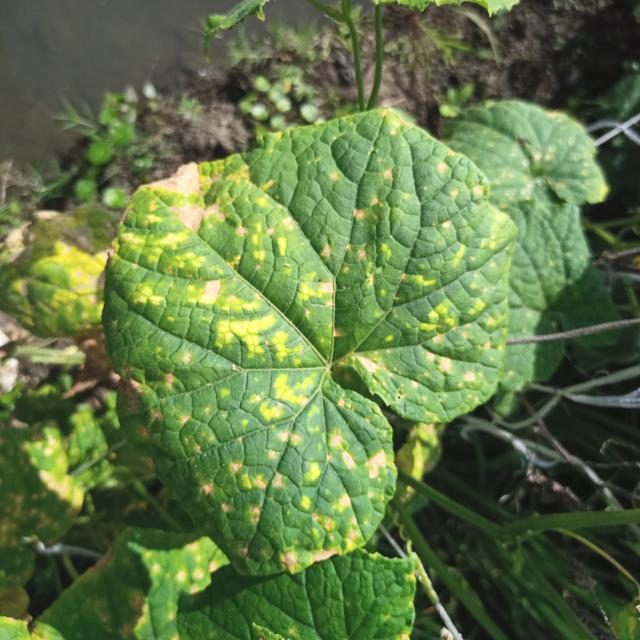disease_cucumber: (110, 125, 515, 580)
